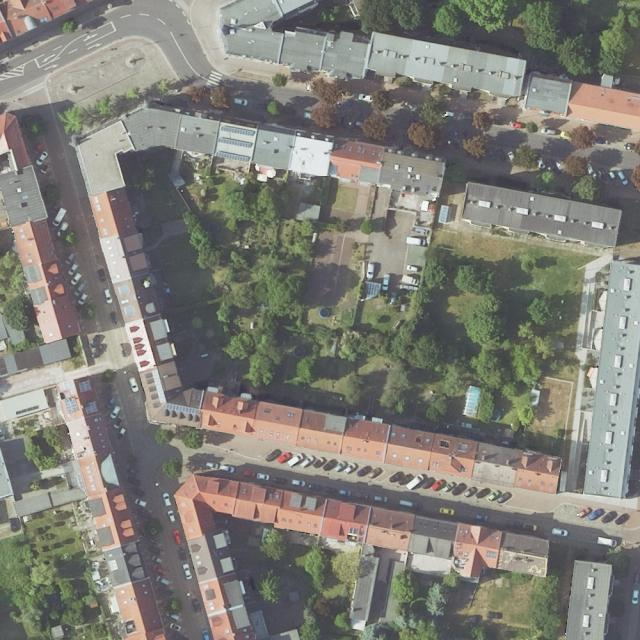PV: (152, 370, 166, 404), (218, 136, 252, 148), (166, 403, 199, 415), (221, 125, 254, 137), (216, 150, 249, 162), (59, 380, 77, 394), (64, 398, 78, 413), (84, 401, 97, 414), (79, 380, 92, 393), (348, 527, 358, 535)
ST: (485, 550, 496, 559)
